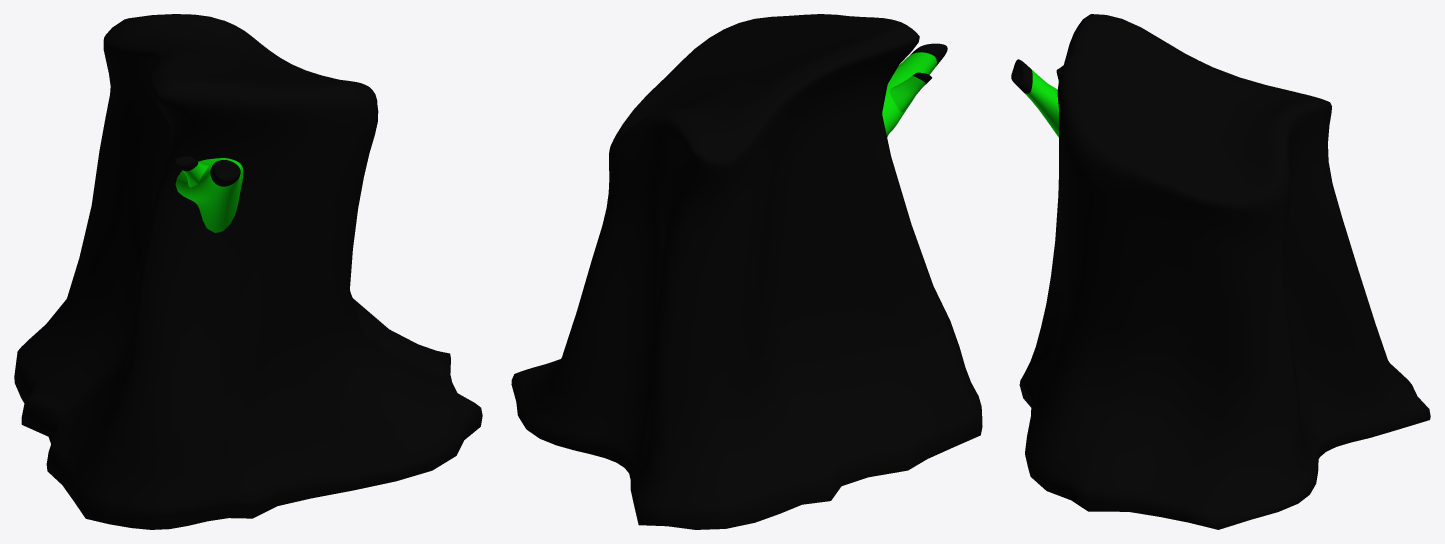
The model's file is Tronco_01.fbx.
3 renders of one model, left to right at view 1: azimuth 30°, elevation 25°; view 2: azimuth 150°, elevation 25°; view 3: azimuth 270°, elevation 25°, orthographic. The views are drawn at different scales.
Visible parts, largest first — view 1: TRONCO_01; view 2: TRONCO_01; view 3: TRONCO_01.
Boxes of the visible parts, left/top/right/bottom form: TRONCO_01: left=14, top=14, right=482, bottom=529; TRONCO_01: left=511, top=14, right=982, bottom=529; TRONCO_01: left=1011, top=14, right=1430, bottom=529.
Size of the model in its own units: 12.44 by 11.43 by 11.84.
